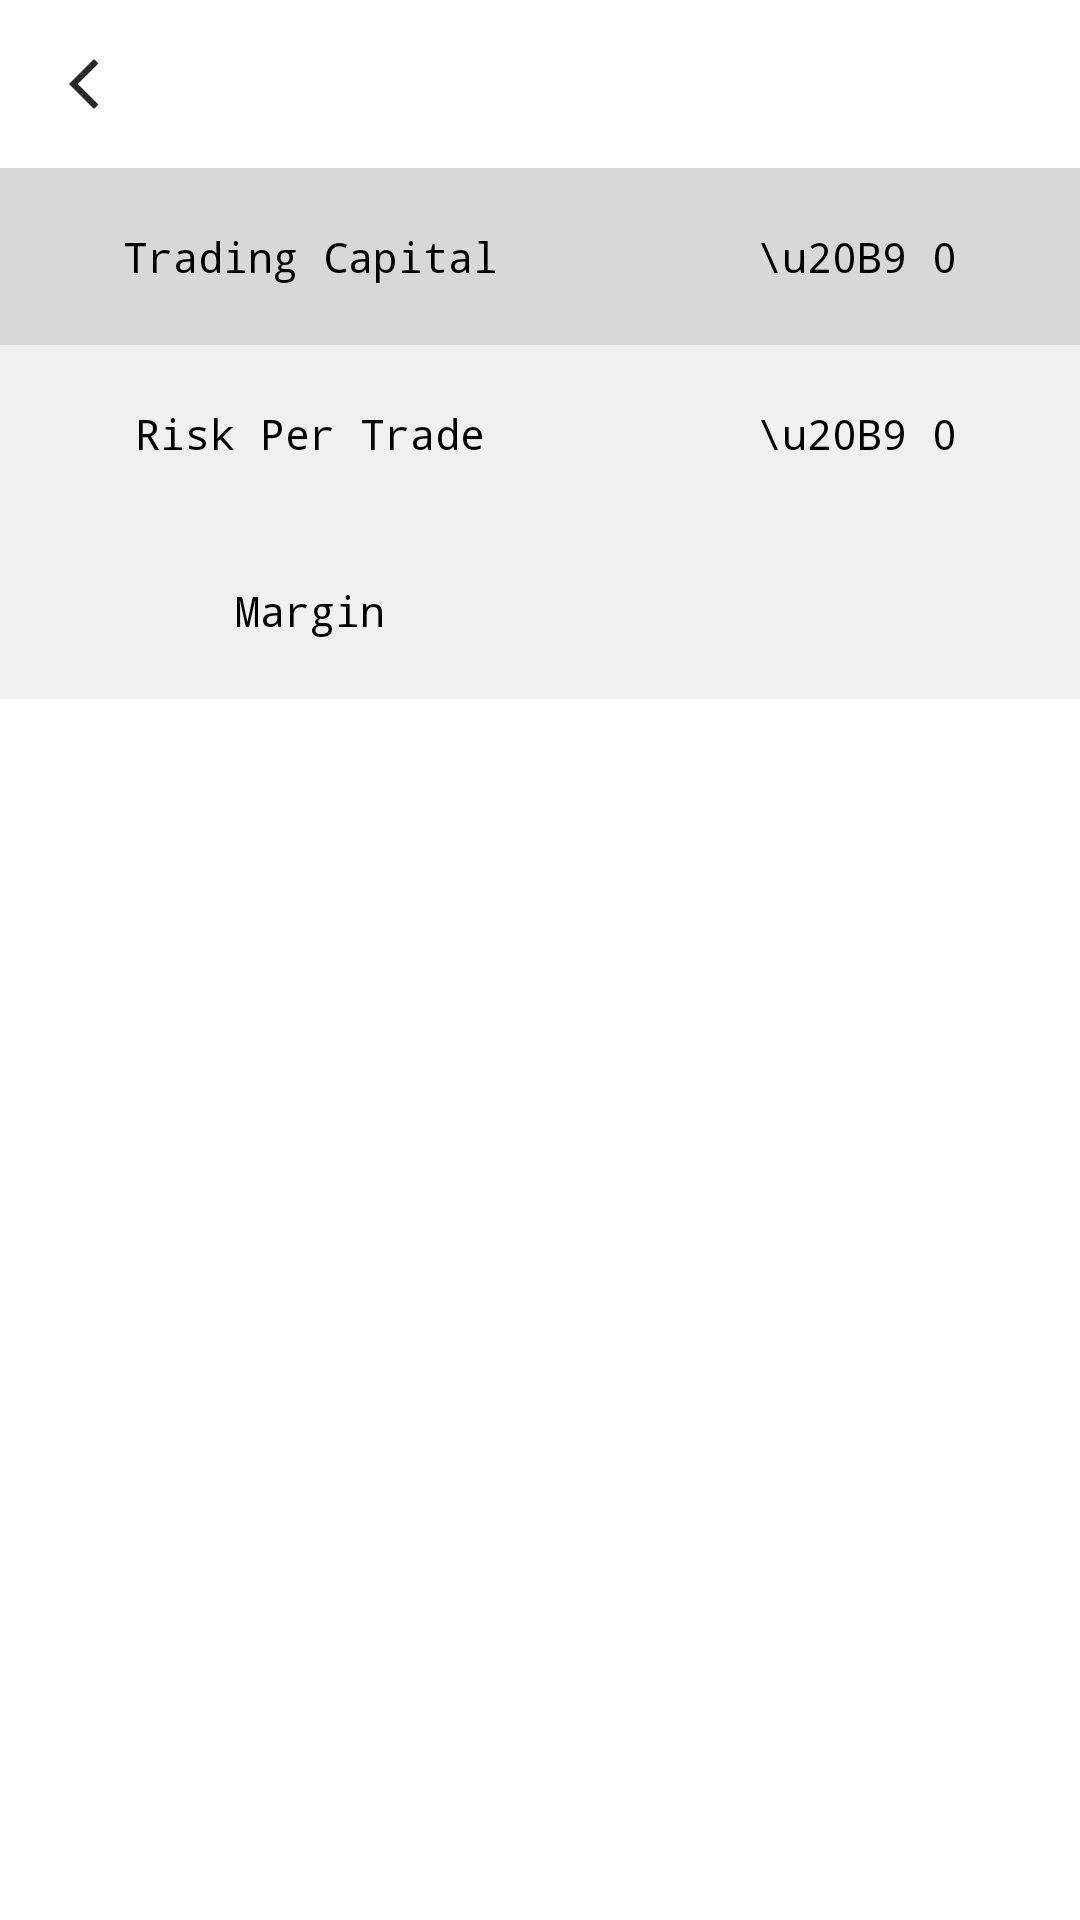

Locate icon controls on the screen. Image size 1080w x 1920h, boxes as detection(x1, y1, x2, y2).
arrow back: detection(69, 59, 99, 109)
